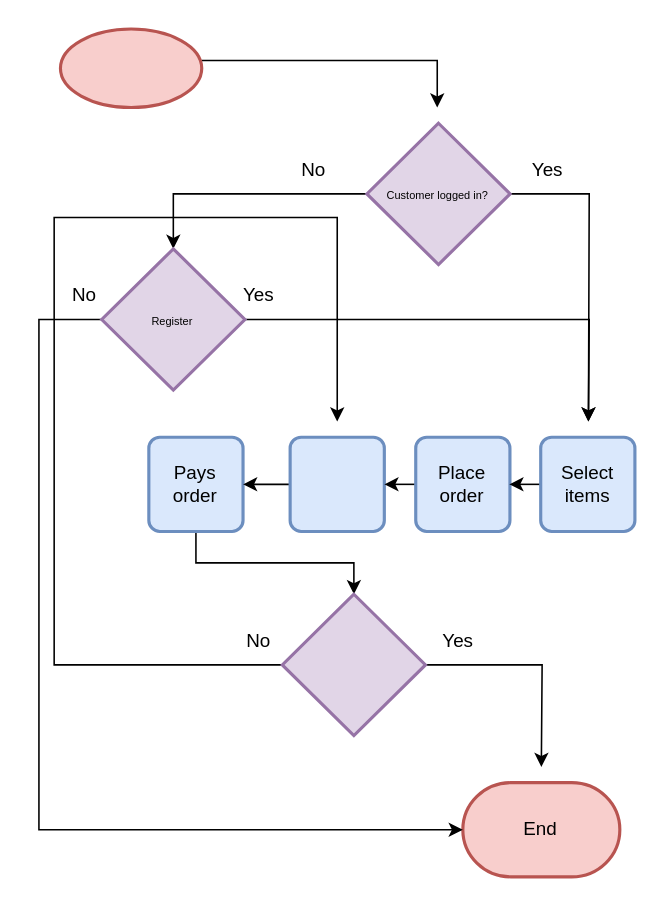
This 664x904 diagram has some shape labels left out. Here are the shapes that lost their labels. From the top down, the box of each, then its label:
(58, 27, 203, 108): Start
(288, 435, 385, 532): Review order
(280, 592, 426, 736): Payment Approved?
